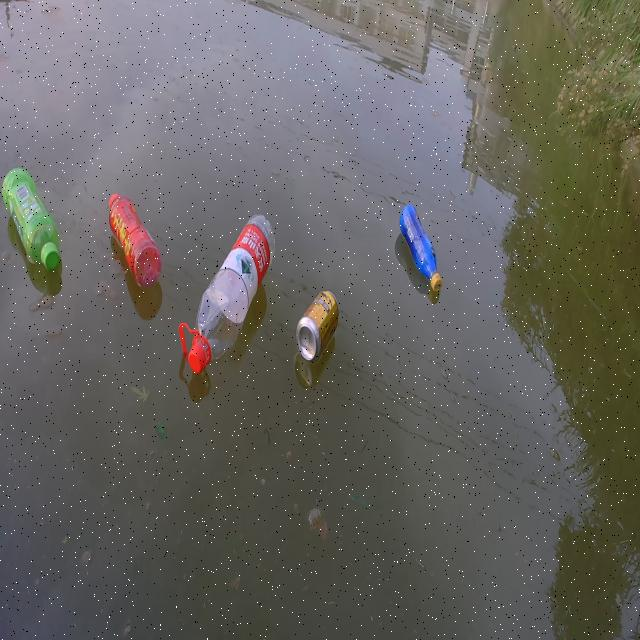Bottle: (175, 204, 276, 376), (1, 159, 63, 272), (106, 186, 164, 292), (397, 196, 446, 295)
Can: (292, 286, 341, 364)
